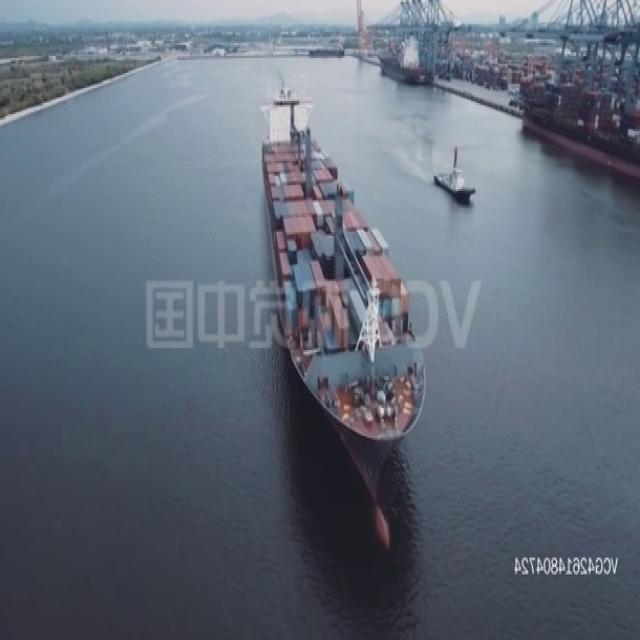cargoship: (258, 91, 425, 517)
houseboat: (436, 143, 478, 204)
